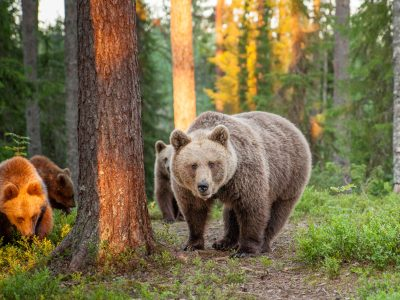bear: (167, 128, 233, 193), (1, 182, 47, 237), (49, 168, 82, 208)
